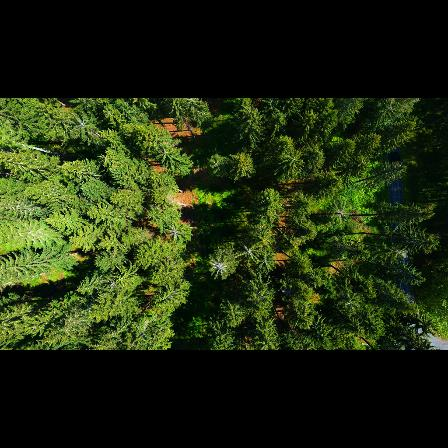Sick: (206, 248, 234, 282), (67, 110, 95, 140), (277, 148, 306, 172), (383, 242, 410, 265), (338, 291, 361, 314), (238, 240, 258, 264), (163, 223, 186, 242)
